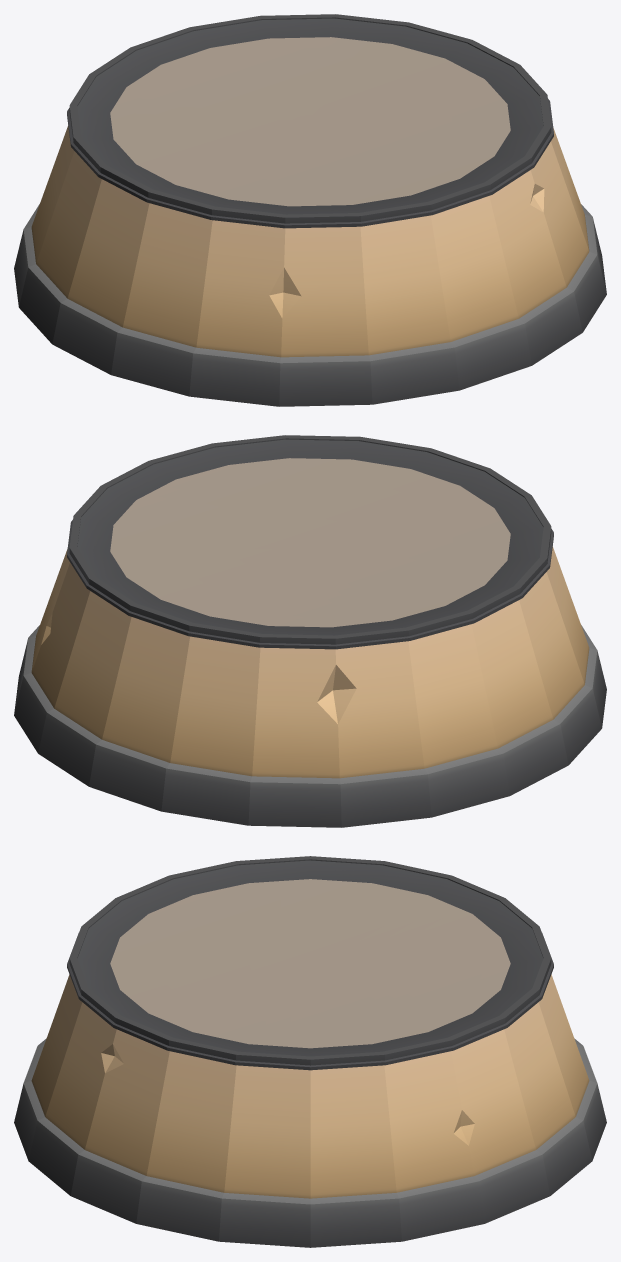
File: Fort Base Circle 02.fbx
3 renders of one model, top to bottom at view 1: azimuth 30°, elevation 25°; view 2: azimuth 150°, elevation 25°; view 3: azimuth 270°, elevation 25°, orthographic.
Parts seen in each view (by area): view 1: Fort Base Circle 02 high, Fort Base Circle 02; view 2: Fort Base Circle 02 high, Fort Base Circle 02; view 3: Fort Base Circle 02 high, Fort Base Circle 02.
Part boxes in pixels (x1=…): Fort Base Circle 02 high: x1=14, y1=14, x2=606, y2=406; Fort Base Circle 02: x1=77, y1=18, x2=543, y2=214; Fort Base Circle 02 high: x1=14, y1=435, x2=606, y2=827; Fort Base Circle 02: x1=77, y1=439, x2=543, y2=635; Fort Base Circle 02 high: x1=14, y1=856, x2=606, y2=1247; Fort Base Circle 02: x1=77, y1=860, x2=543, y2=1056.
Bounding box in the file's own units: 34.41 × 10.54 × 34.41.
Materials: 1 (1 with a texture image).
